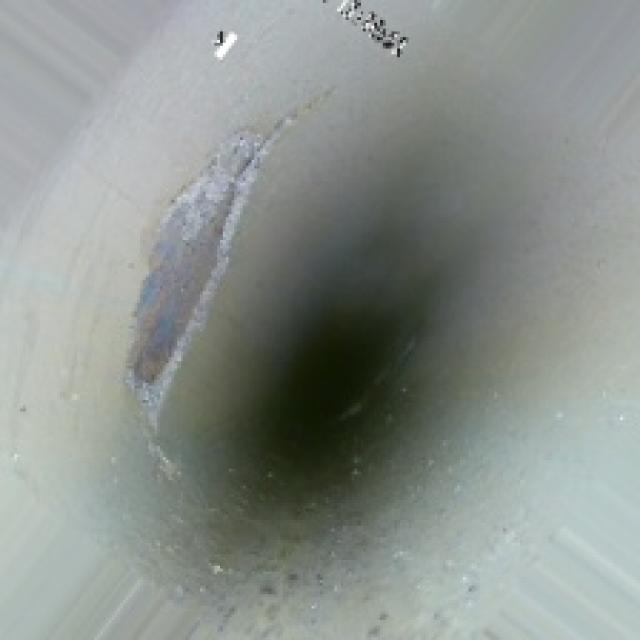pipe_surface_damage: (106, 126, 271, 463)
